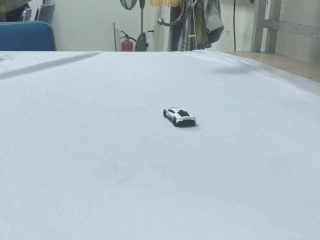toy_car: (163, 107, 196, 127)
